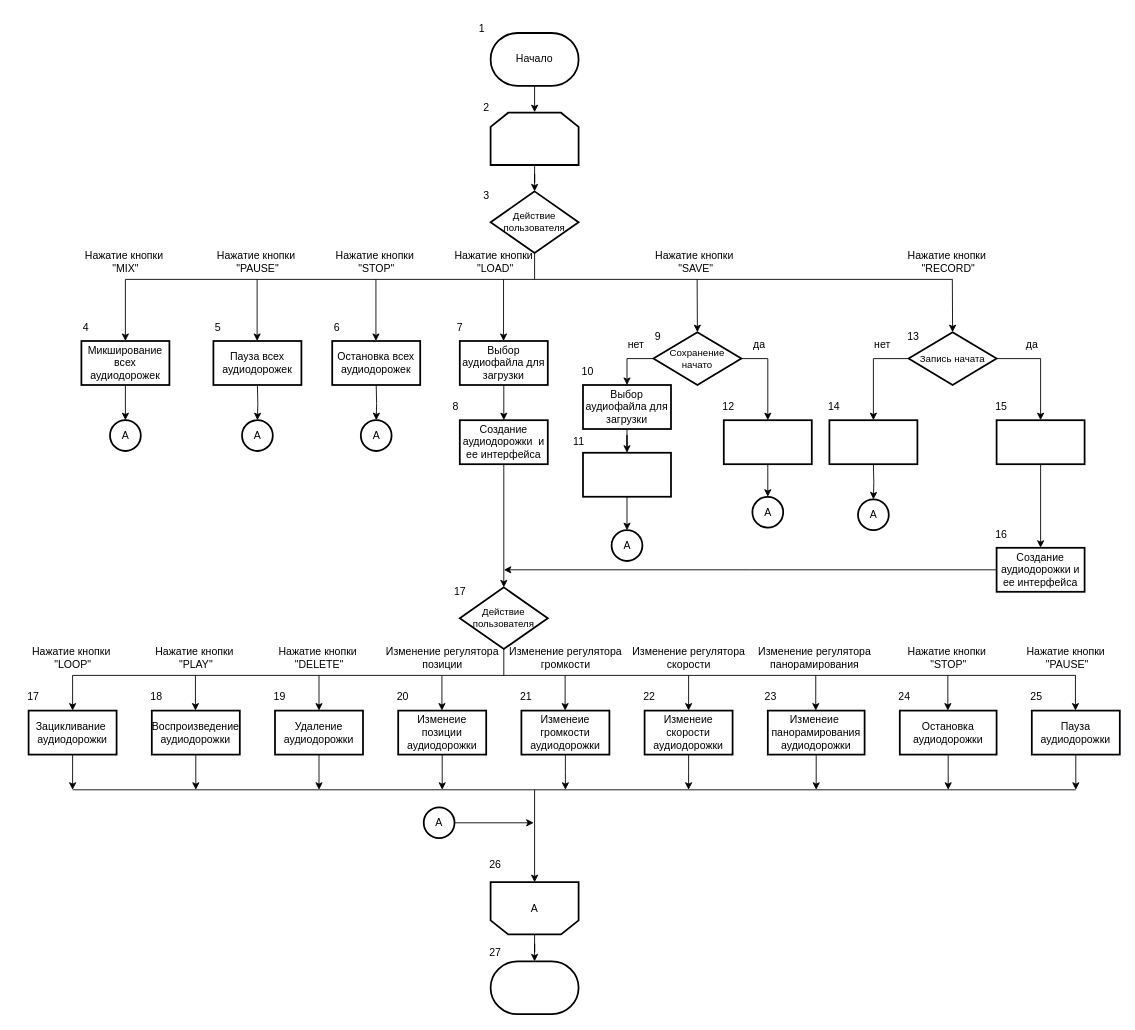
Image size: 1135x1030. Some labels were removed from this diagram. The shapes that lost their labels are listed below. From the top down, each one's centre as x and y in pixels, then its label:
At (x=534, y=138): "А Пока приложение запущено".
At (x=767, y=442): "Остановка сохранения".
At (x=873, y=442): "Начало записи".
At (x=1040, y=442): "Остановка записи".
At (x=626, y=474): "Сохранение трека в файл".
At (x=534, y=987): "Конец".
